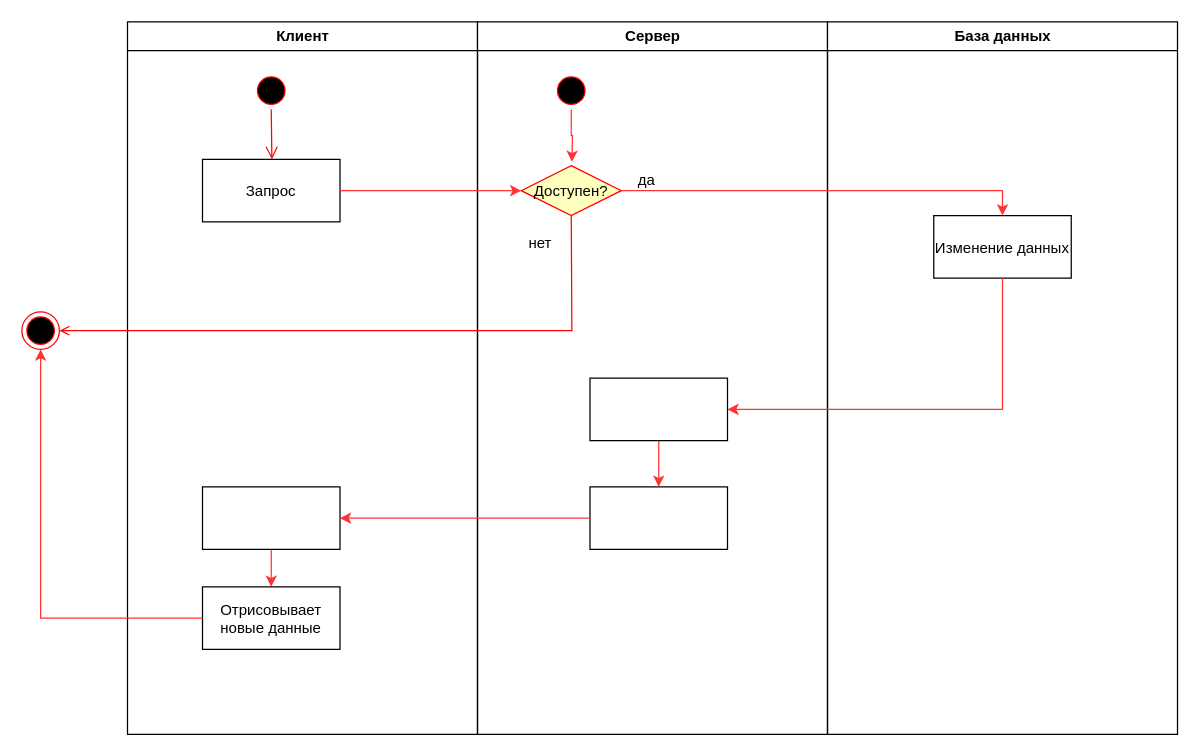
Some shapes in this 1200 by 756 pixel diagram are drawn without their labels. The shapes that lost their labels are listed below. From the top down, each one's box as (x1, y1, x2, y2) in pixels, then its label:
(589, 377, 728, 441): Генерирует ответ
(201, 486, 340, 549): Получение данных
(589, 486, 728, 549): Передача данных
